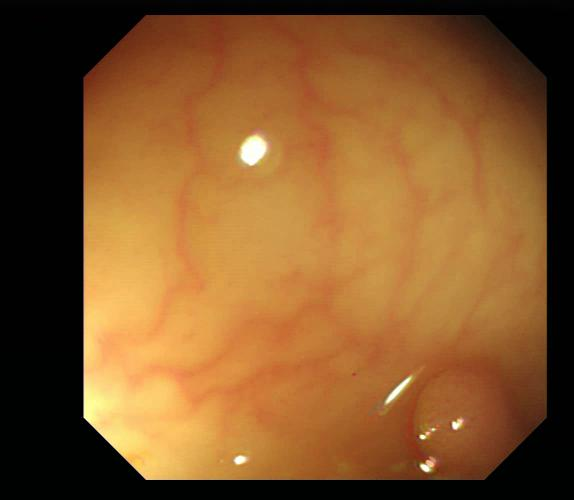polyp: (409, 371, 530, 469)
